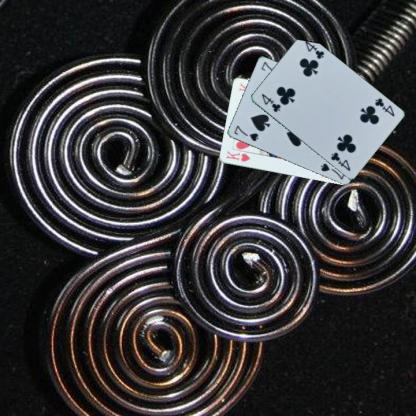4c: (372, 95, 396, 118), (259, 91, 282, 113)
7s: (231, 122, 260, 142)
Kh: (224, 148, 251, 163)
